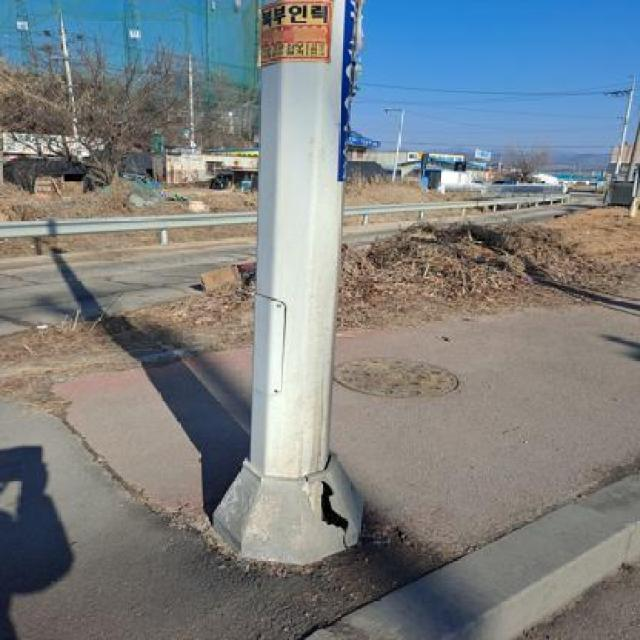pole: (203, 0, 379, 574)
